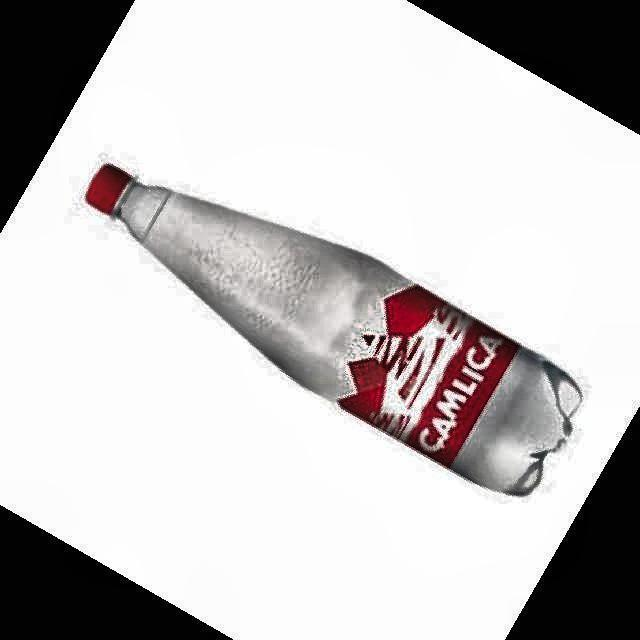plastic: (86, 165, 581, 494)
